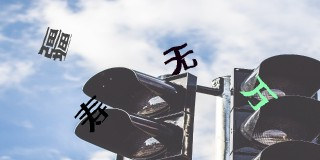万: (240, 75, 278, 112)
寿: (73, 95, 109, 134)
无: (162, 43, 198, 76)
疆: (37, 24, 72, 62)
